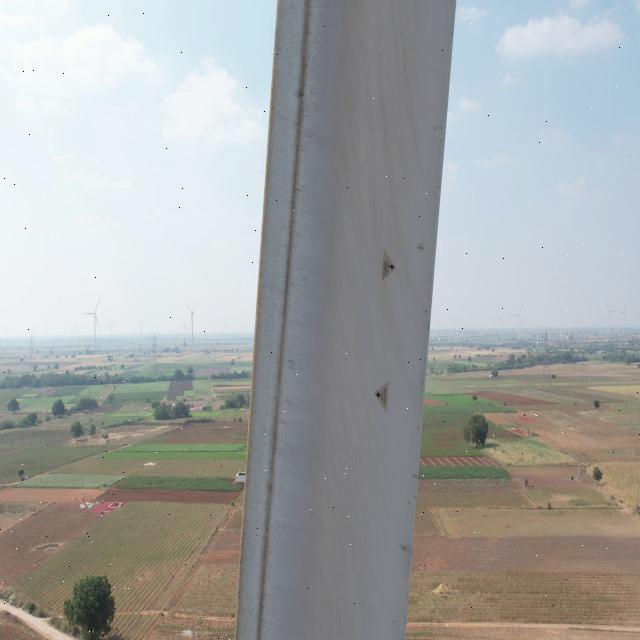Dirt: (320, 0, 432, 384)
Pin Hole: (372, 387, 386, 408), (385, 259, 398, 273)
